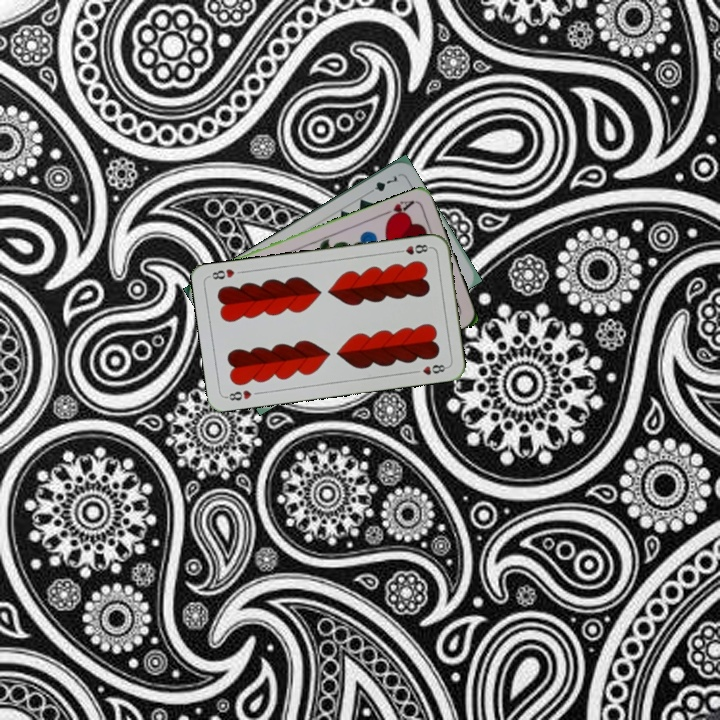G7: (363, 171, 400, 197)
H8: (393, 240, 433, 257), (222, 386, 254, 403)
HA: (378, 196, 417, 223)
